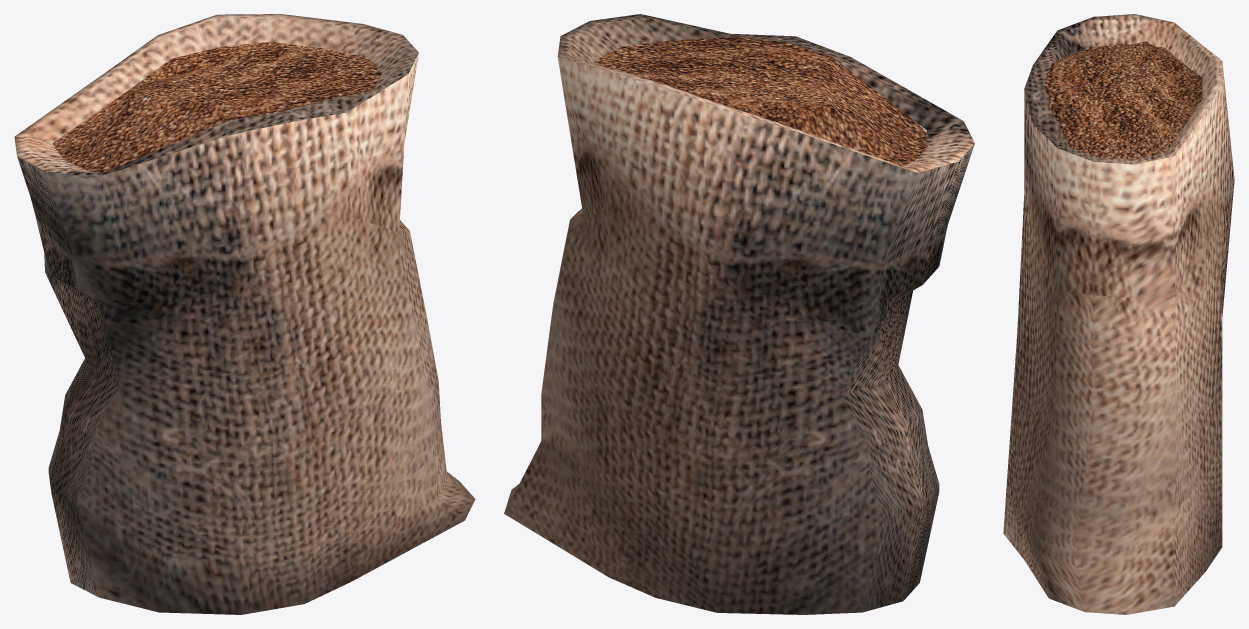
Rendered from Grainbag.fbx.
The picture shows the model from 3 angles, left to right: view 1: azimuth 30°, elevation 25°; view 2: azimuth 150°, elevation 25°; view 3: azimuth 270°, elevation 25°; orthographic projection. The views are drawn at different scales.
Parts seen in each view (by area): view 1: grainbag1; view 2: grainbag1; view 3: grainbag1.
Part boxes in pixels (x1=…): grainbag1: x1=14, y1=14, x2=475, y2=614; grainbag1: x1=504, y1=14, x2=974, y2=614; grainbag1: x1=1003, y1=14, x2=1234, y2=614.
Bounding box in the file's own units: 23.75 × 25.73 × 11.6.
